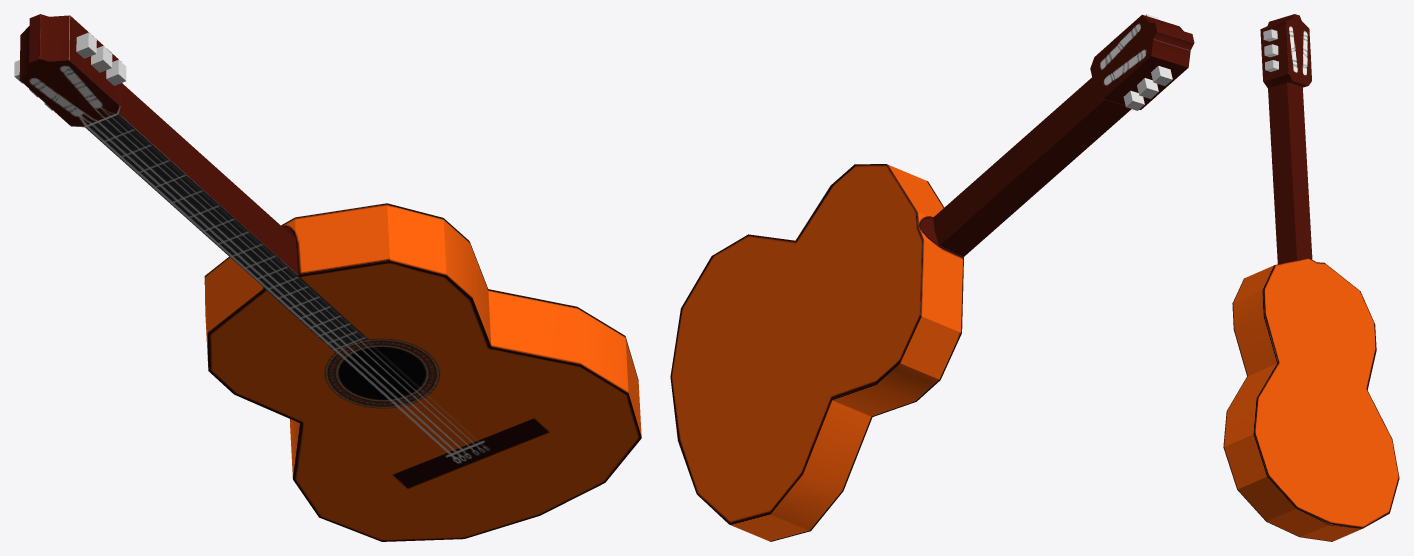
The model's file is guitarra2_000196.obj.
3 views of the same model, side by side, from view 1: azimuth 30°, elevation 25°; view 2: azimuth 150°, elevation 25°; view 3: azimuth 270°, elevation 25° (orthographic). The views are drawn at different scales.
Visible parts, largest first — view 1: g2_pPlane4.001; view 2: g2_pPlane4.001; view 3: g2_pPlane4.001.
Part boxes in pixels (x1,y1,x2,y2): g2_pPlane4.001: (14,14,641,541); g2_pPlane4.001: (670,14,1194,541); g2_pPlane4.001: (1223,14,1399,541).
Bounding box in the file's own units: 9.58 × 10.02 × 4.02.
